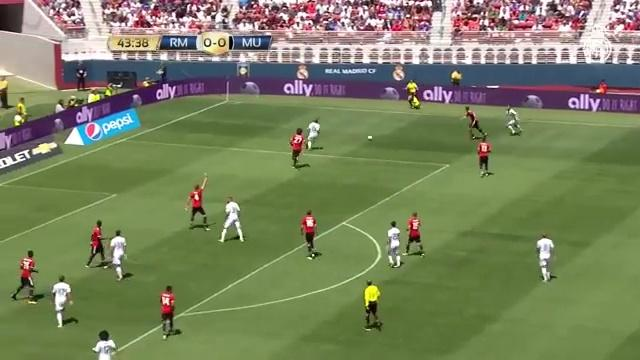football: (367, 136, 373, 141)
player: (11, 250, 38, 304), (185, 173, 209, 230), (219, 197, 244, 242), (51, 276, 72, 327), (403, 212, 424, 255), (85, 220, 104, 267), (110, 230, 126, 280), (536, 234, 553, 281), (300, 210, 316, 259), (160, 286, 174, 339), (464, 106, 486, 139), (92, 330, 116, 359), (289, 128, 304, 168), (387, 221, 400, 267), (477, 137, 491, 176), (506, 105, 521, 135), (307, 118, 320, 150)
referee: (364, 280, 381, 330), (405, 80, 420, 109)
